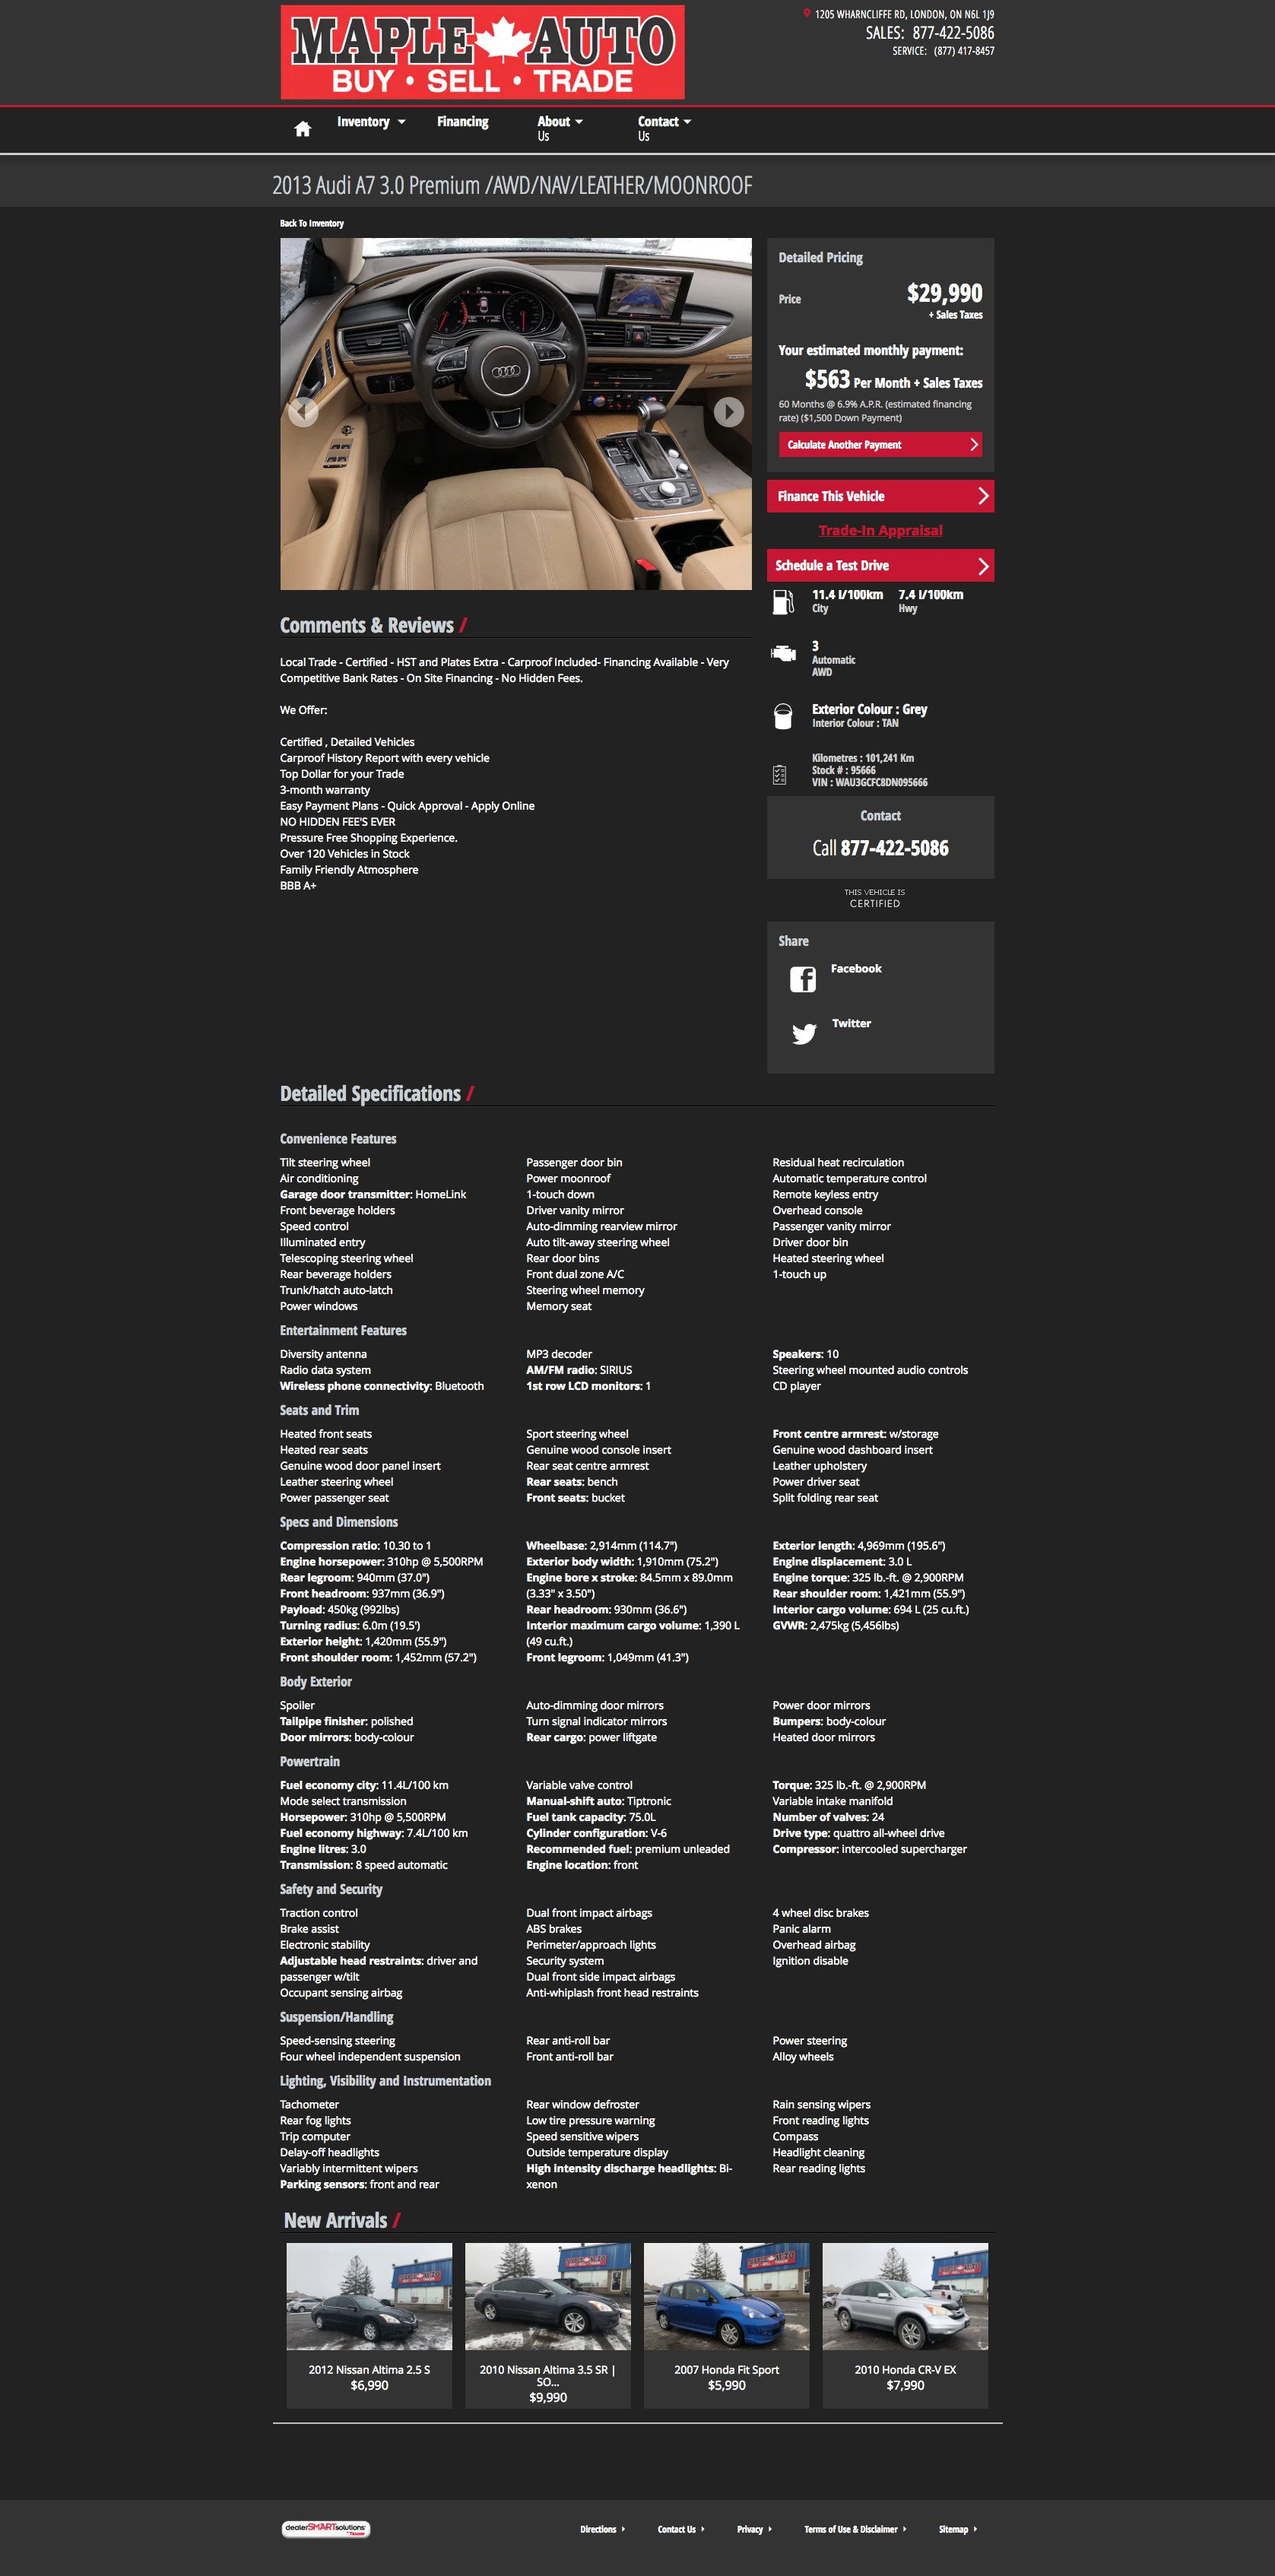car: (725, 404, 734, 421)
